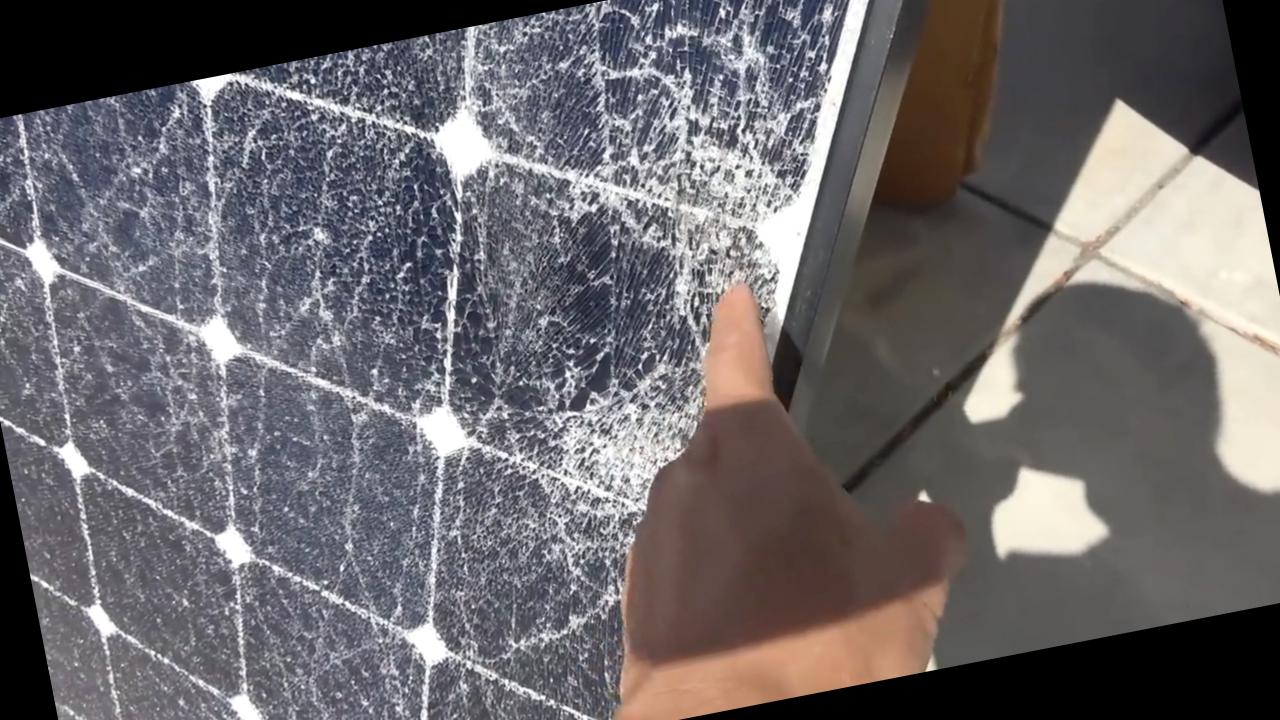Crack: (0, 1, 688, 578), (31, 472, 624, 706), (61, 610, 595, 719), (577, 76, 812, 294), (472, 289, 682, 473), (601, 0, 835, 105)
